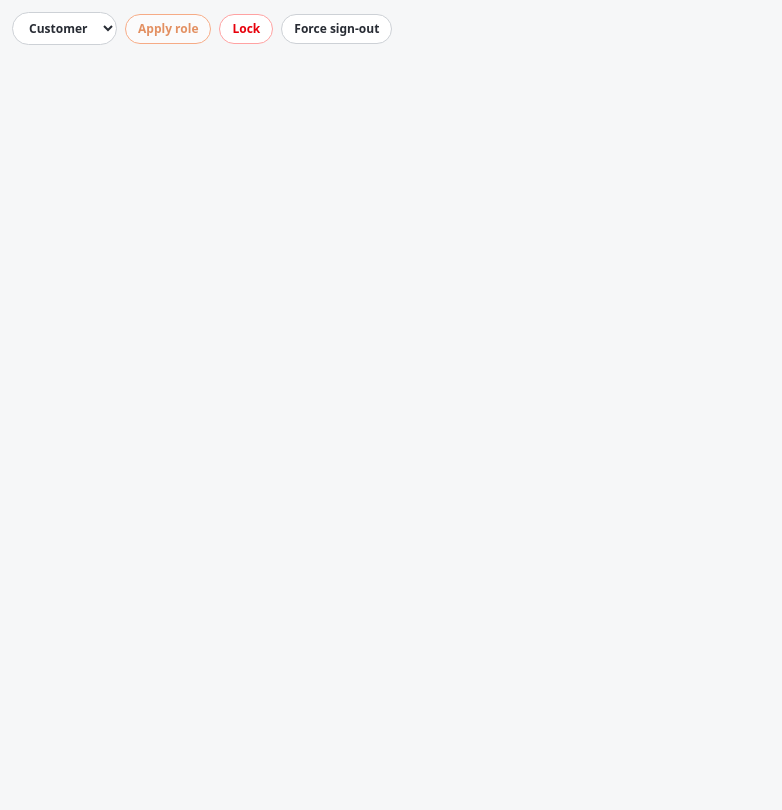
Test: AdminUserActions › falls back to the generic error toast when the failure has no body
Select "Support" in the dropdown named "Role" at x=64, y=28, box [12,12,117,45]
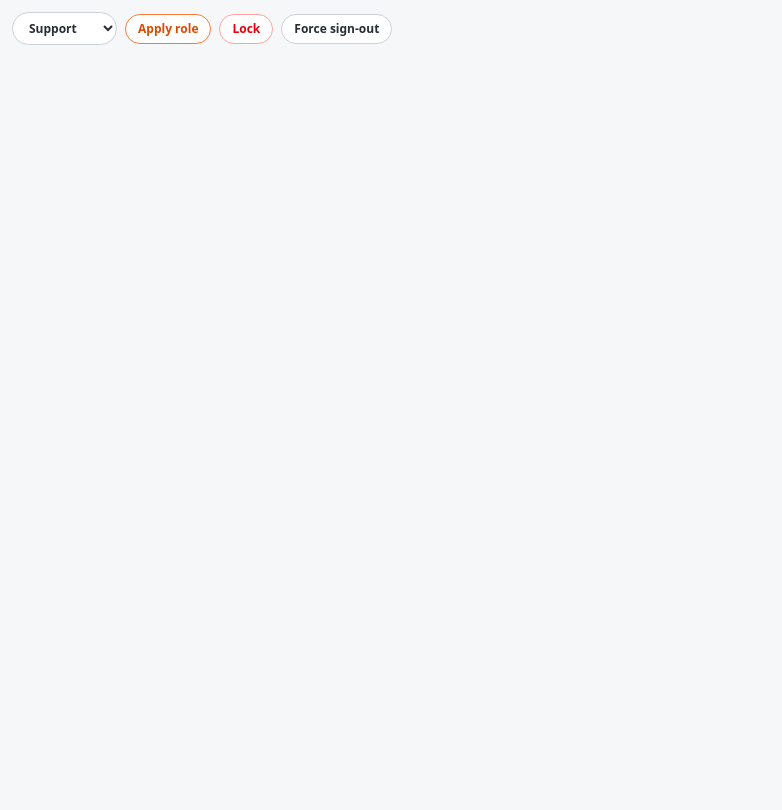
Click the button "Apply role" at x=168, y=28, box [125,14,212,44]
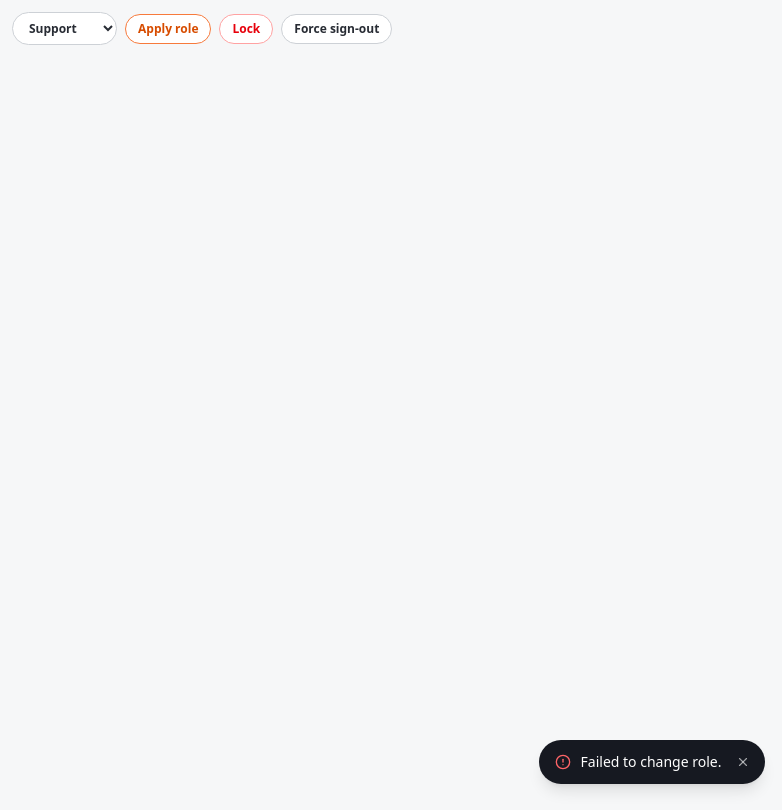
Expected: the message reads "Failed to change role.", [580,752,721,771]
